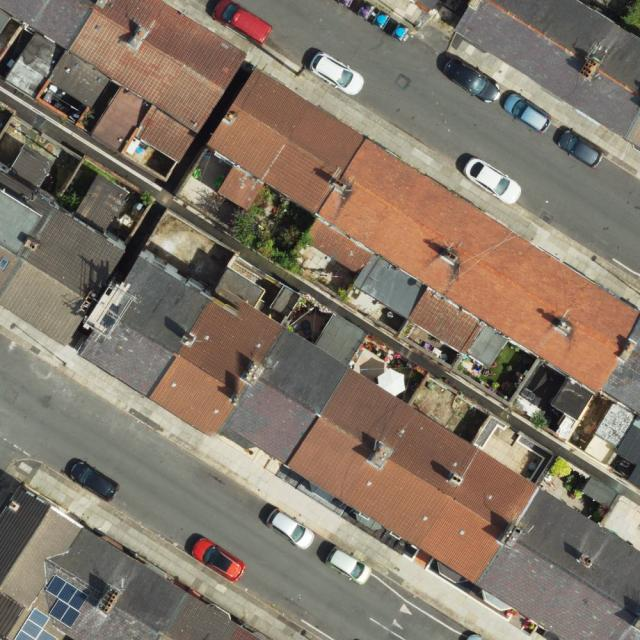roof: (78, 252, 640, 640), (207, 66, 639, 419), (0, 484, 265, 640), (1, 0, 247, 164), (454, 0, 640, 149), (0, 169, 131, 348)
skylight: (0, 256, 9, 270)
solar: (45, 574, 90, 629), (13, 608, 59, 639)
